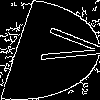V: (24, 25, 100, 67)
